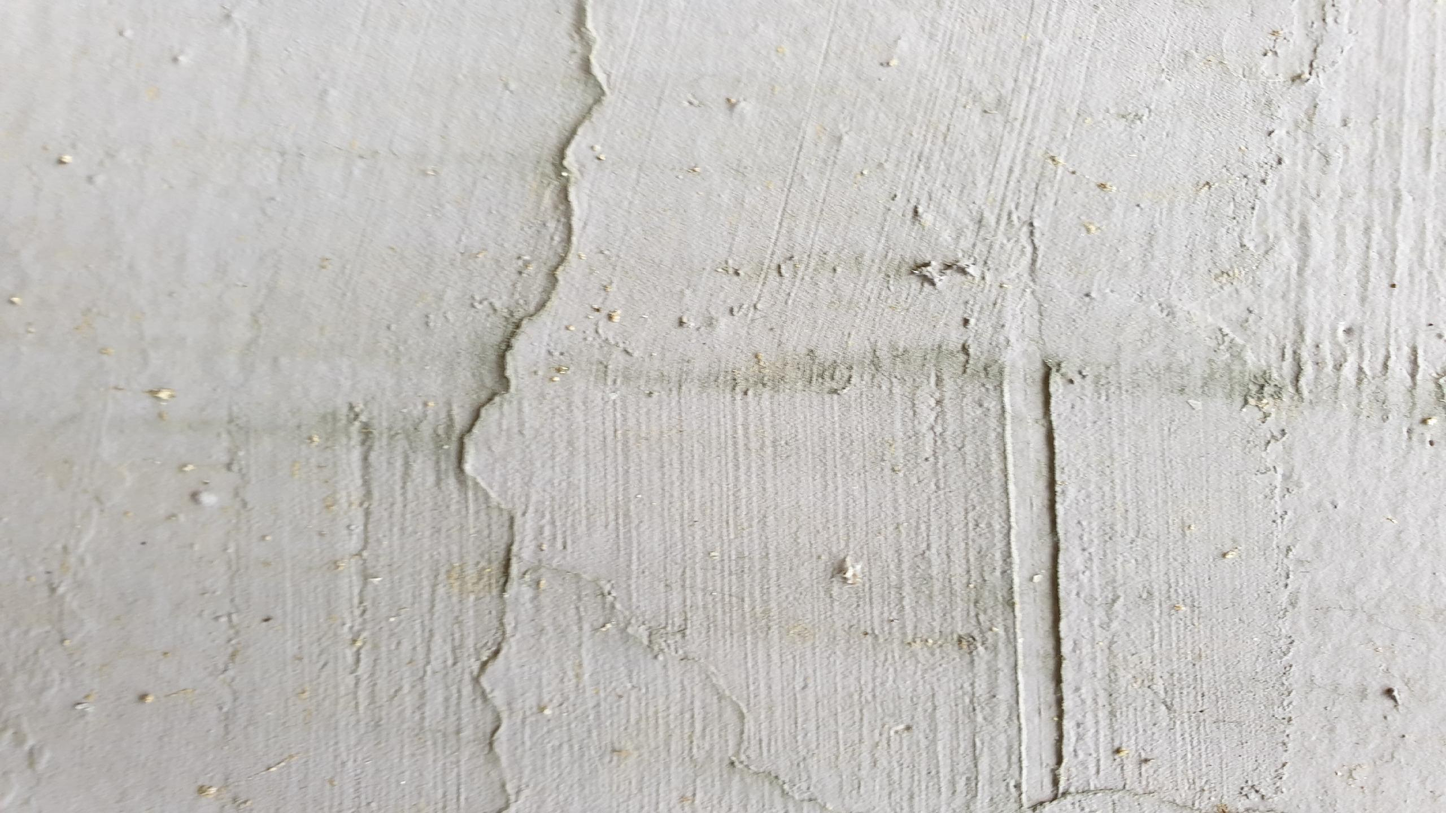crack: (448, 15, 613, 798), (1035, 371, 1071, 774)
